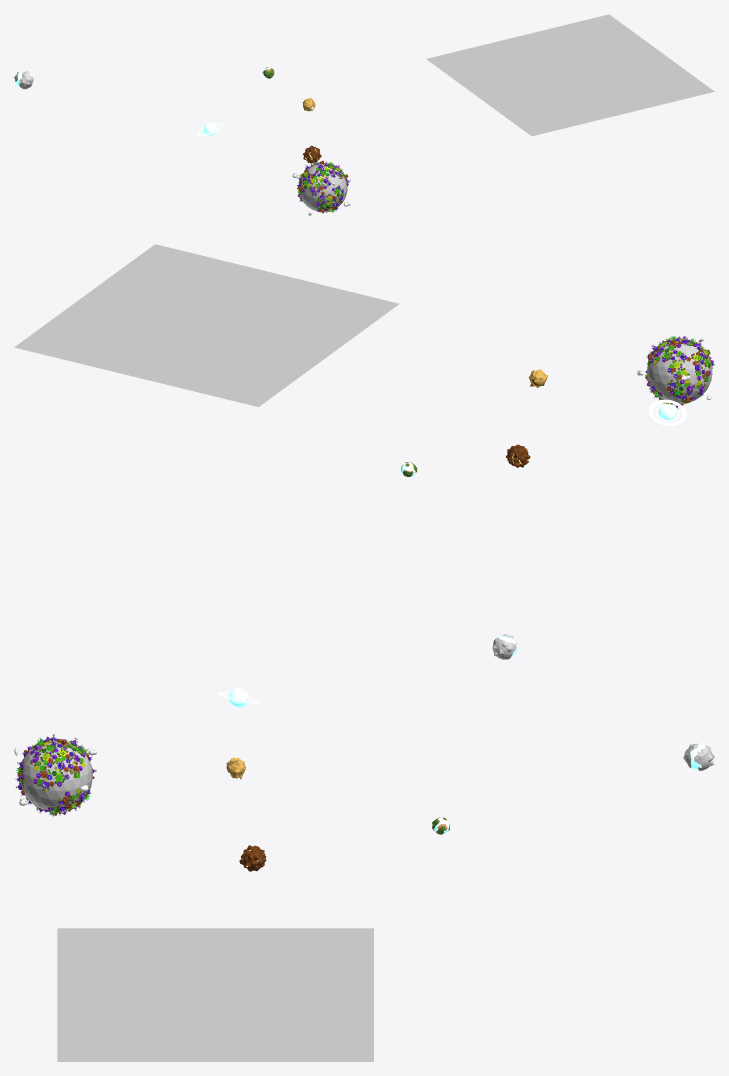
Rendered from Worldcloserclouds2.glb.
3 renders of one model, top to bottom at view 1: azimuth 30°, elevation 25°; view 2: azimuth 150°, elevation 25°; view 3: azimuth 270°, elevation 25°, orthographic. The views are drawn at different scales.
Parts seen in each view (by area): view 1: Plane, main planet; view 2: Plane, main planet; view 3: Plane, main planet, Icosphere.001.
Part boxes in pixels (x1,y1,x2,y2): Plane: (426,14,714,136); main planet: (299,164,347,212); Plane: (14,244,399,406); main planet: (647,339,712,403); Plane: (57,928,373,1061); main planet: (19,738,92,811); Icosphere.001: (683,743,714,770).
Size of the model in its own units: 5.29 by 0.7445 by 4.43.
